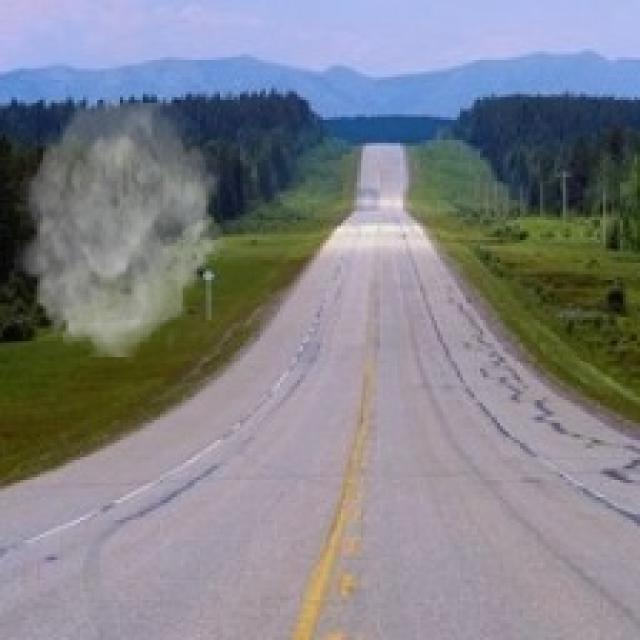smoke: (12, 103, 228, 357)
